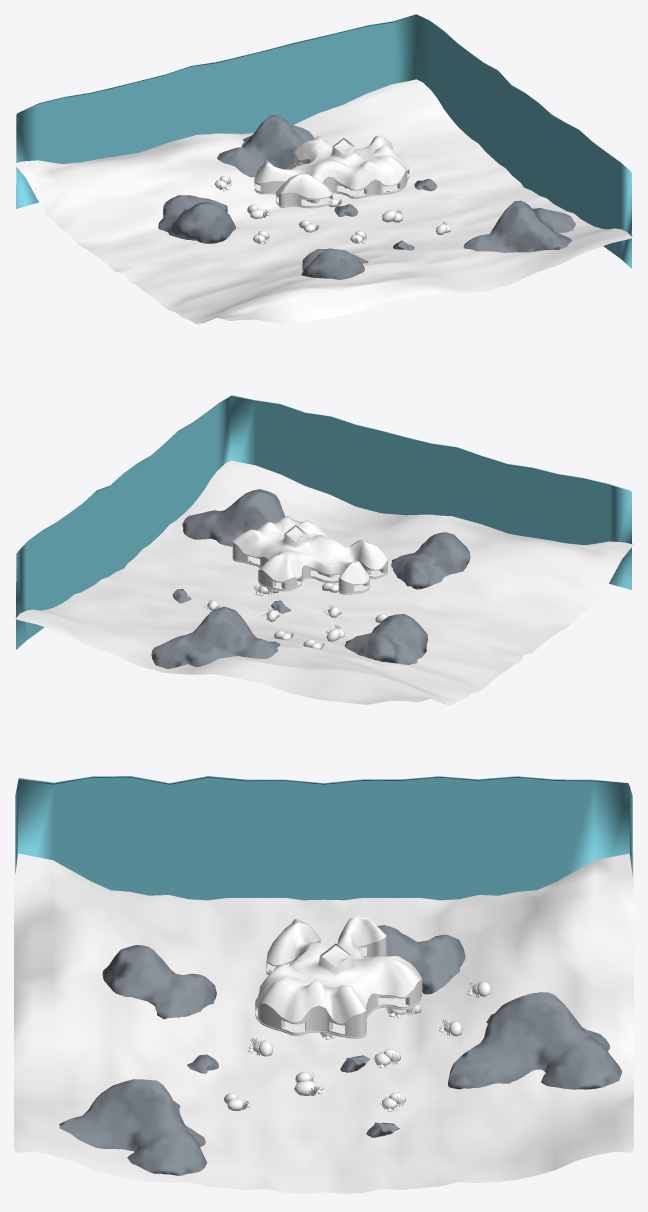
The picture shows the model from 3 angles, top to bottom: view 1: azimuth 30°, elevation 25°; view 2: azimuth 150°, elevation 25°; view 3: azimuth 270°, elevation 25°; orthographic projection. The views are drawn at different scales.
Visible parts, largest first — view 1: Locales; view 2: Locales; view 3: Locales.
Part boxes in pixels (x1=…): Locales: x1=14, y1=14, x2=633, y2=323; Locales: x1=14, y1=395, x2=633, y2=705; Locales: x1=14, y1=776, x2=633, y2=1193.
Size of the model in its own units: 6.91 by 1.66 by 6.45.
